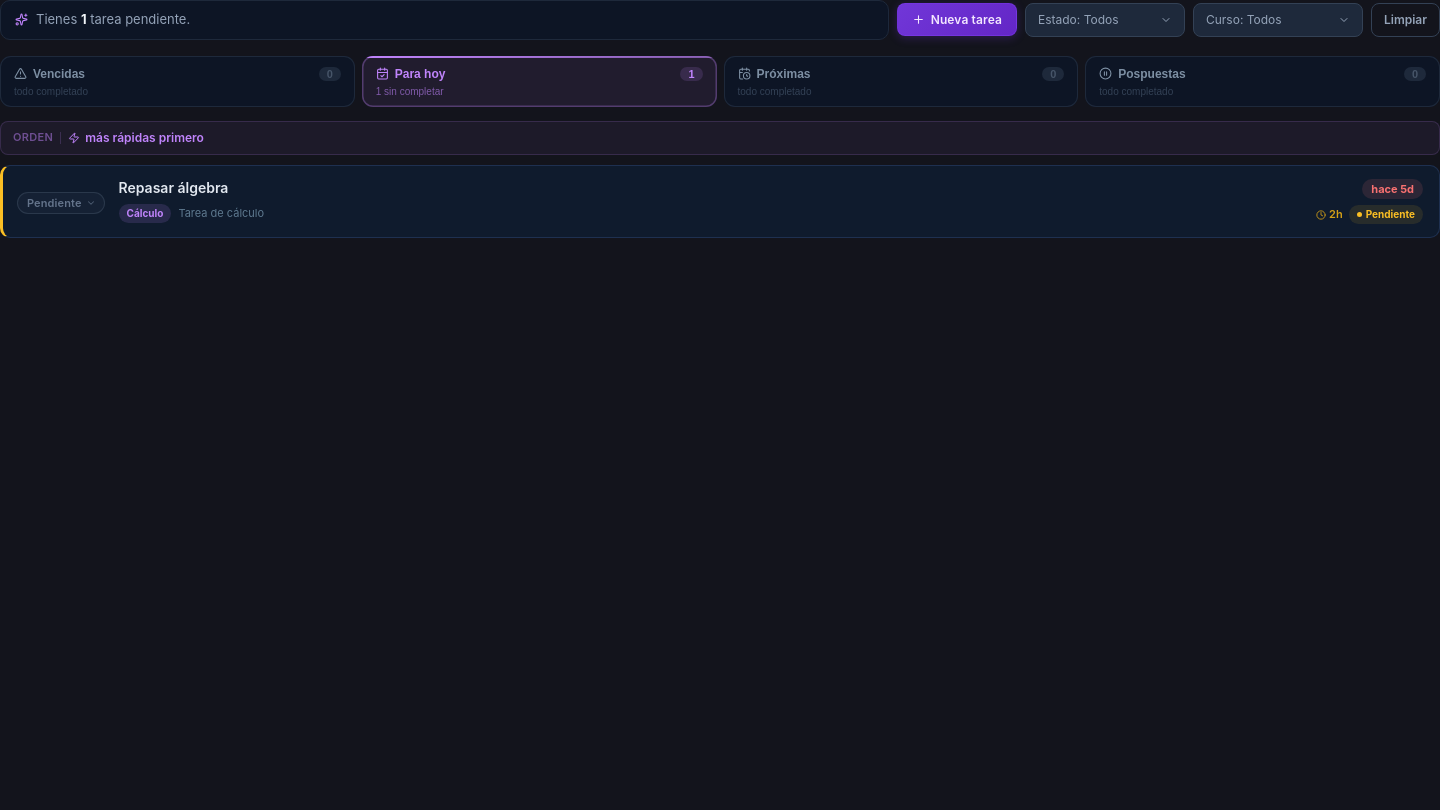
TodayKanban — panel de detalle › cierra el panel desde el botón de cerrar
The width and height of the screenshot is (1440, 810).
Click the button with test id "today-subtask-card-10": (173, 188) x1=0 y1=164 x2=1439 y2=238
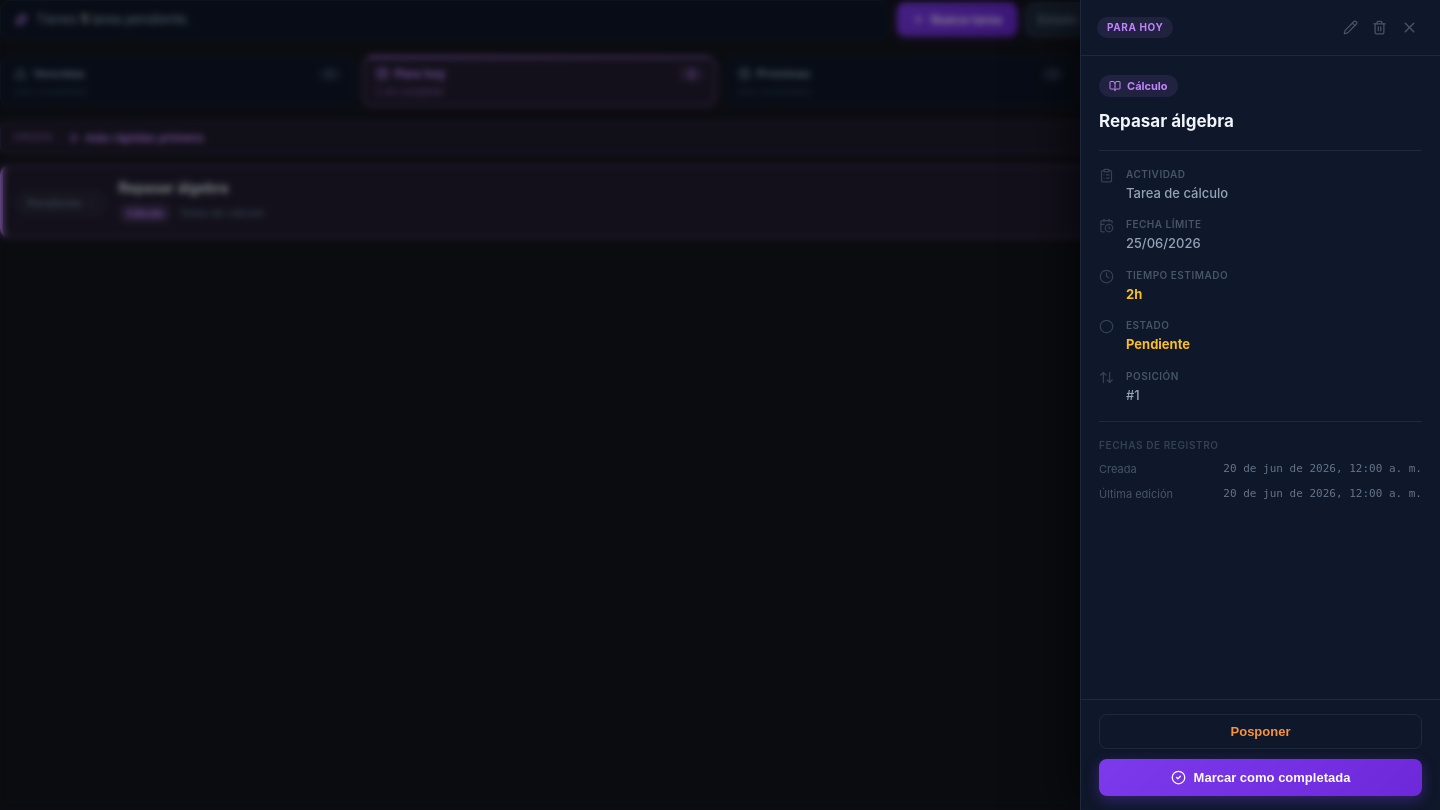
Click the button with test id "subtask-detail-close-btn": (1410, 28) x1=1395 y1=13 x2=1424 y2=42
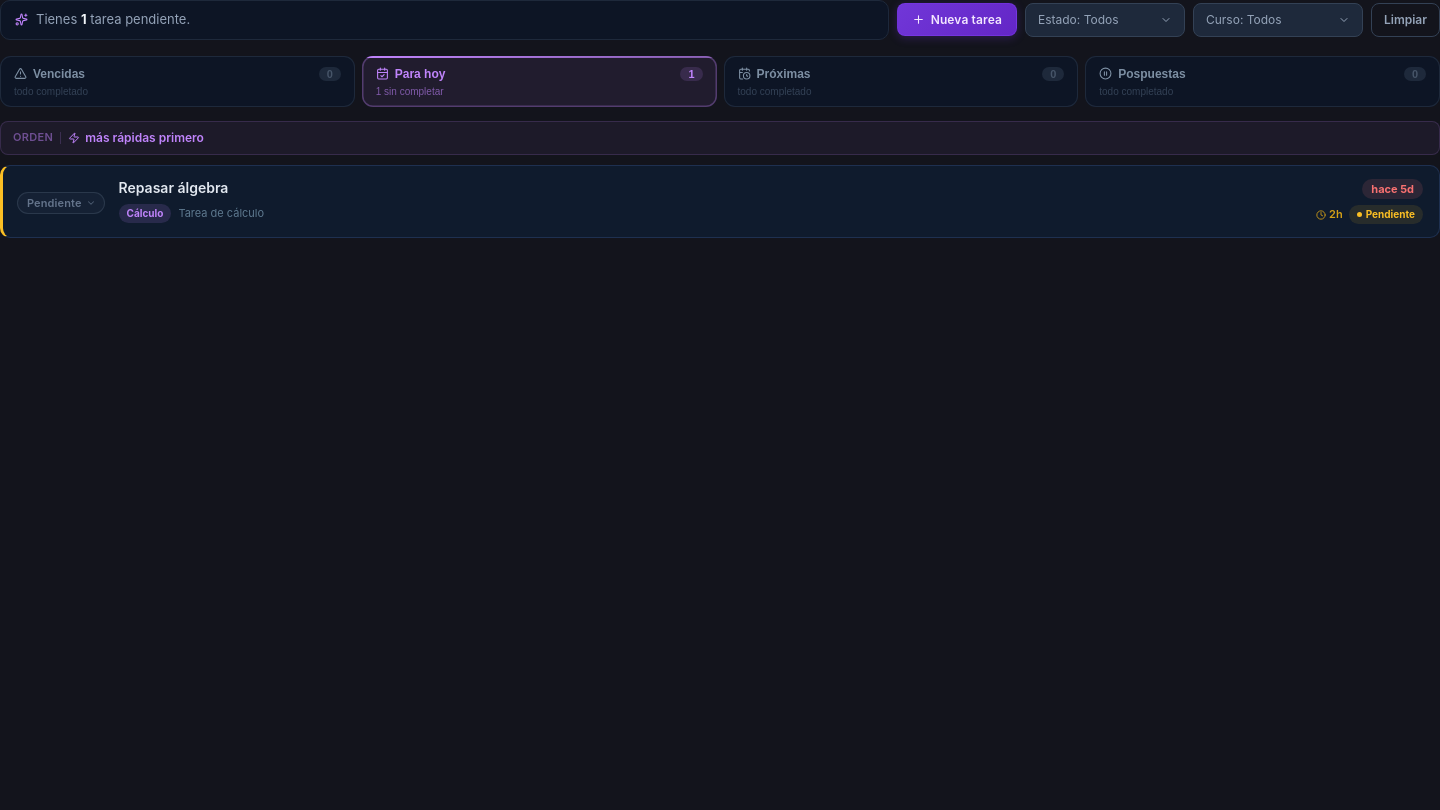
Expected: the dialog with test id "subtask-detail-panel" is gone
